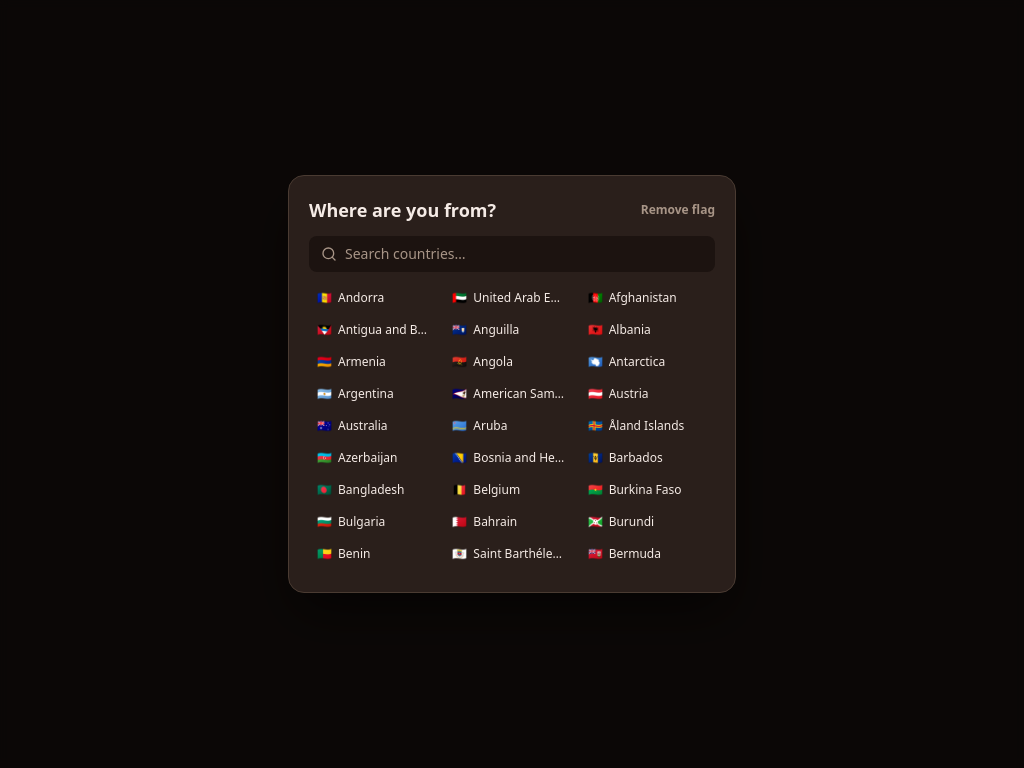
Scenario: FlagPicker modal › filters to no-match state
Type "zzzzz" into the field labelled "Search countries". click: {"x": 524, "y": 254}
box: [345,236,703,272]
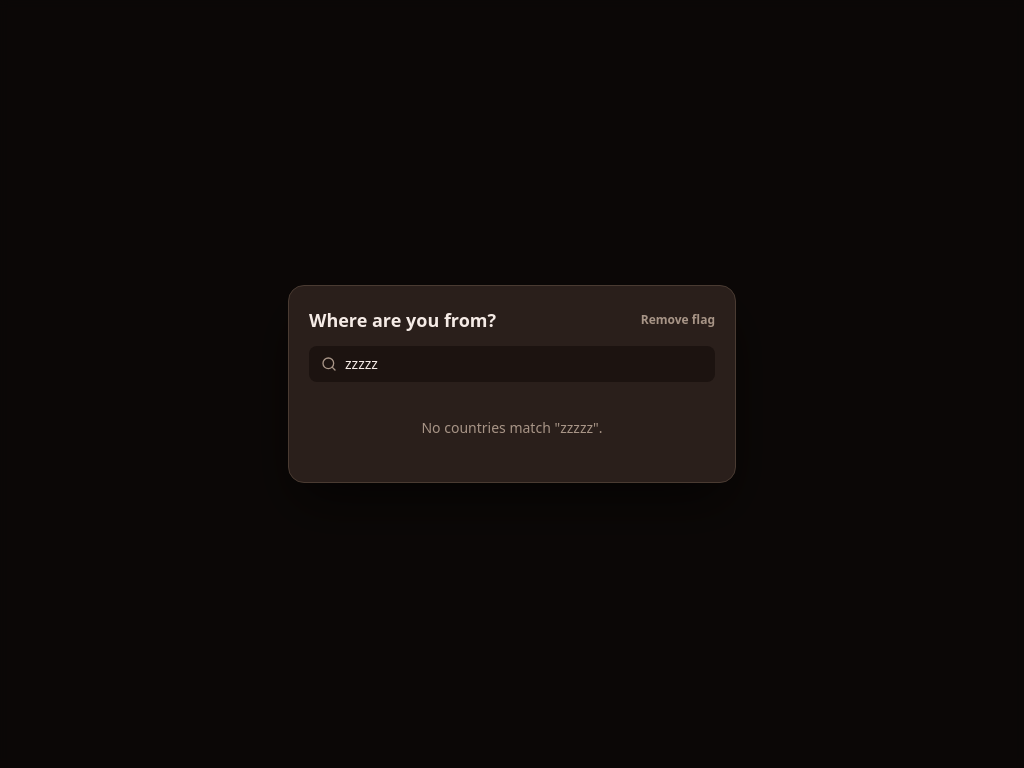
Now the text "No countries match \"zzzzz\"." is shown, box [422,418,602,437]
